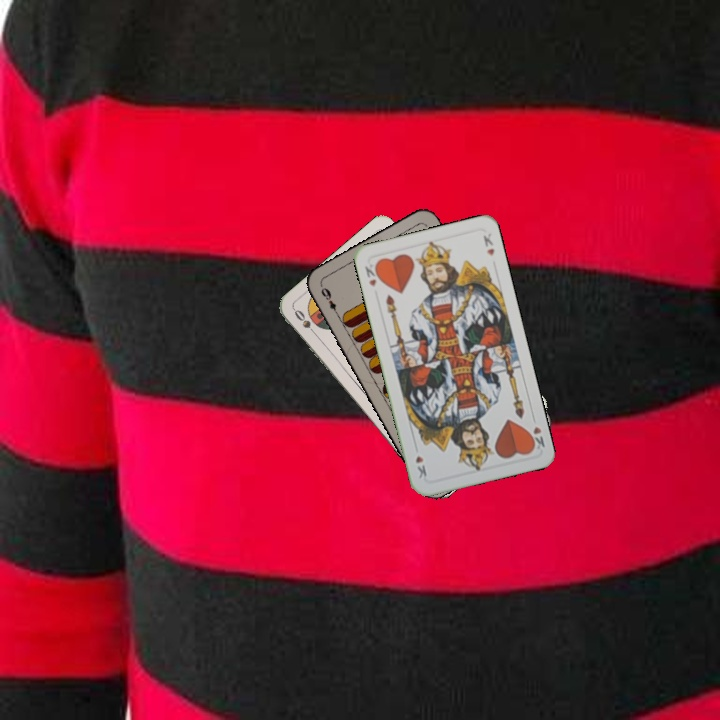E9: (317, 283, 342, 319)
HK: (524, 412, 548, 454), (361, 258, 383, 289)
SO: (290, 305, 320, 340)
